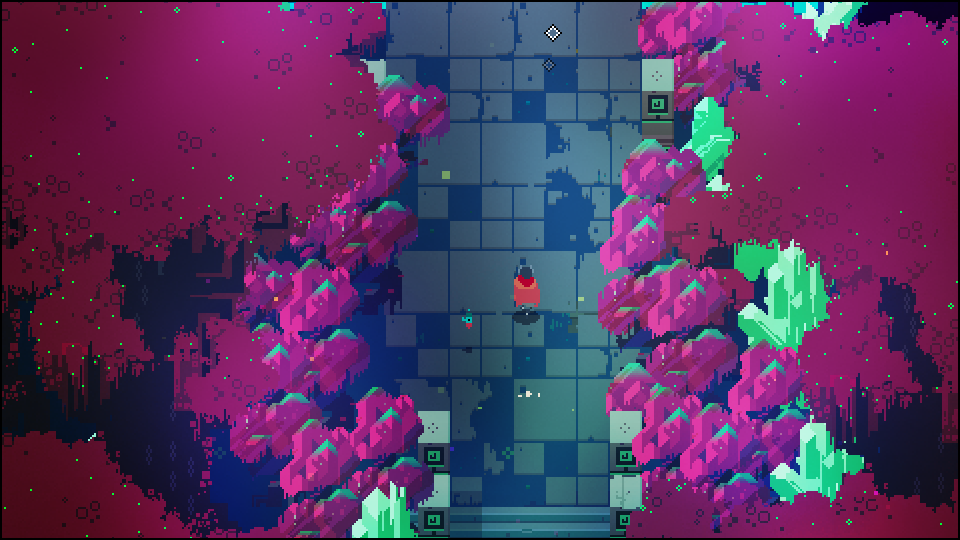player: (510, 260, 539, 319)
